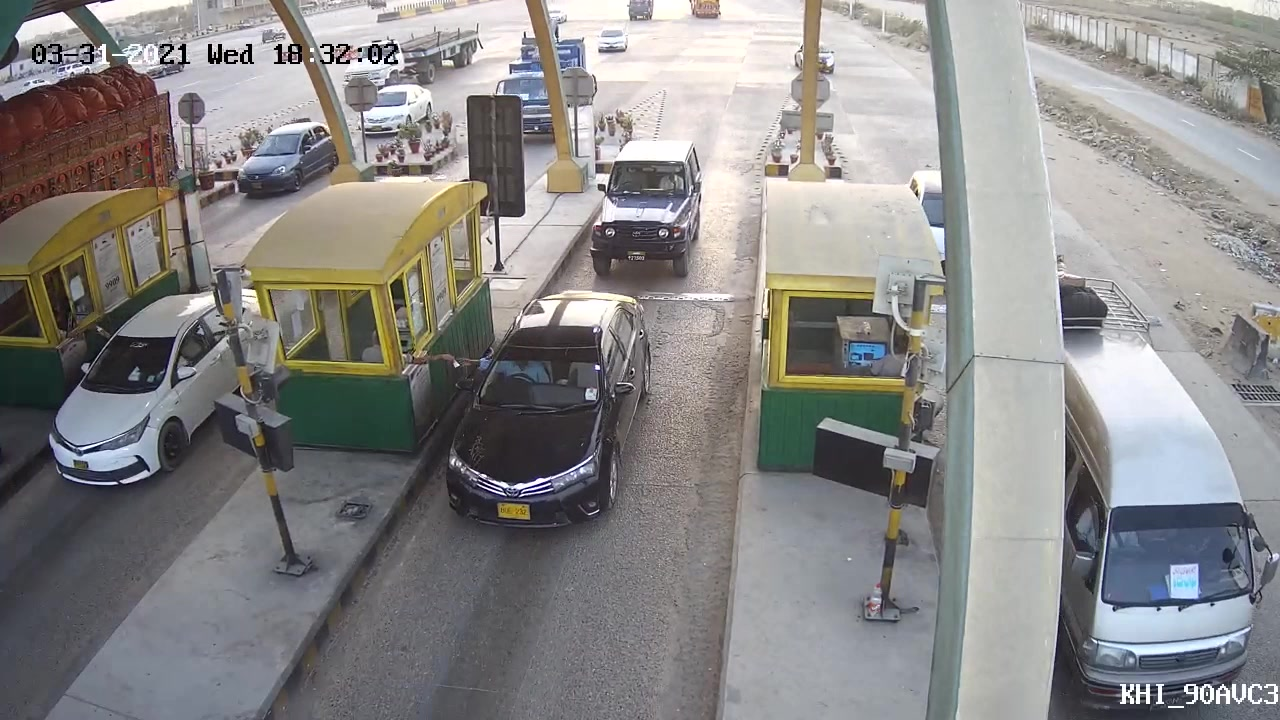F1: (424, 286, 657, 536), (571, 137, 712, 286)
